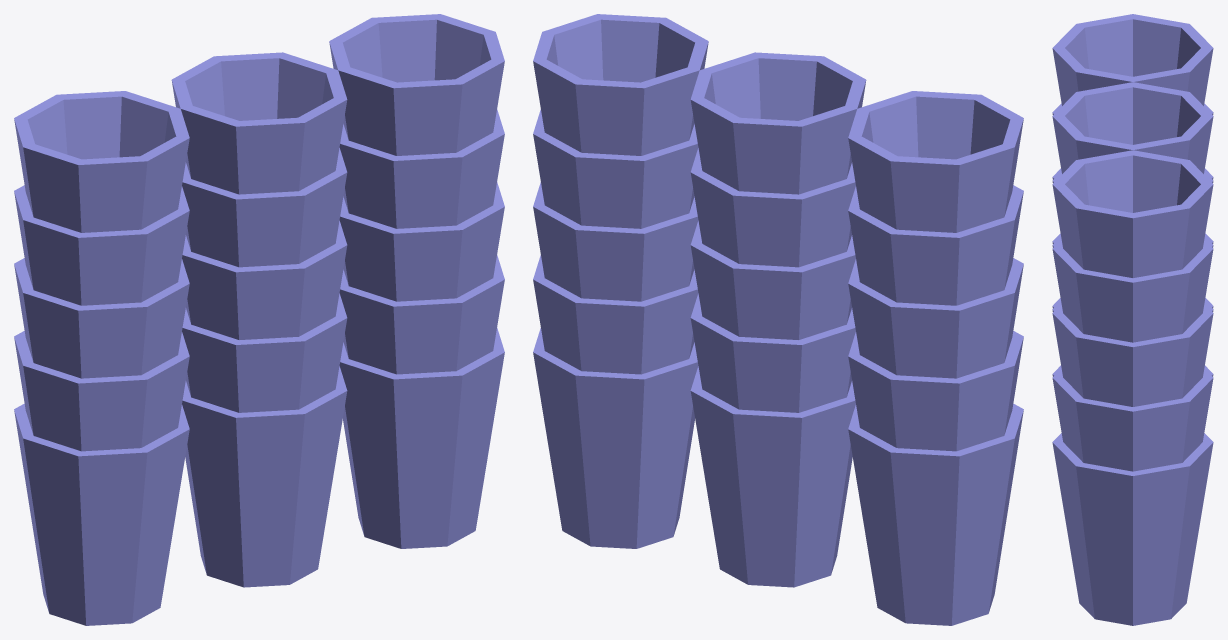
Rendered from Cup_2.fbx.
The picture shows the model from 3 angles, left to right: view 1: azimuth 30°, elevation 25°; view 2: azimuth 150°, elevation 25°; view 3: azimuth 270°, elevation 25°; orthographic projection. The views are drawn at different scales.
Visible parts, largest first — view 1: Cup_2; view 2: Cup_2; view 3: Cup_2.
Boxes of the visible parts, left/top/right/bottom form: Cup_2: left=14, top=14, right=504, bottom=625; Cup_2: left=533, top=14, right=1023, bottom=625; Cup_2: left=1052, top=14, right=1213, bottom=625.
Bounding box in the file's own units: 46.82 × 44.79 × 15.61.
